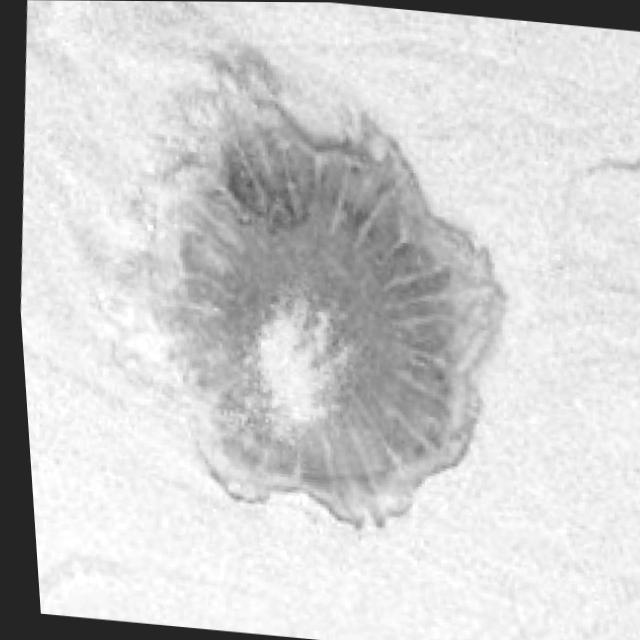Jellyfish: (55, 36, 537, 547)
